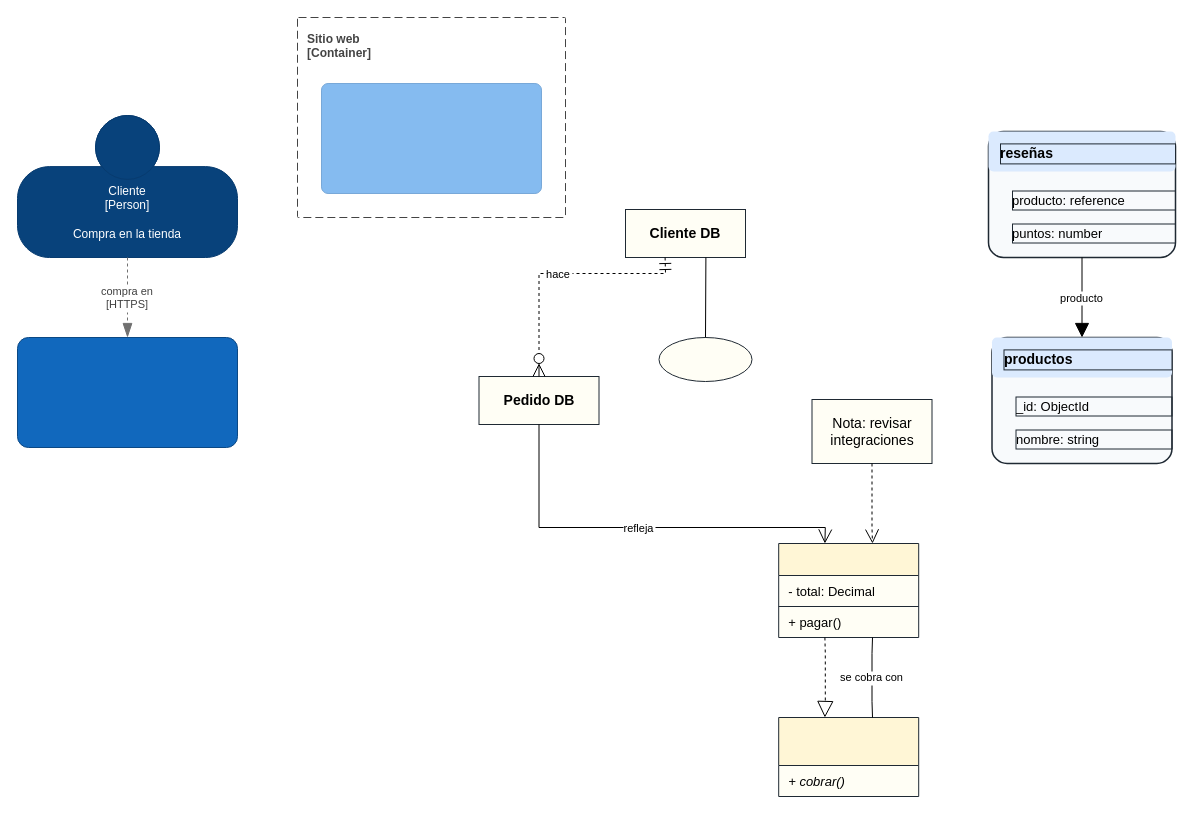
Some shapes in this 1194 by 814 pixel diagram are drawn without their labels. Each missing label, with the box of its shape:
API de pedidos [Component: Node.js]: (320, 82, 542, 194)
nombre: (658, 336, 752, 382)
Pedido: (778, 542, 919, 638)
Tienda en línea [Software System]: (16, 336, 238, 448)
«interface» Pagable: (778, 716, 919, 796)
